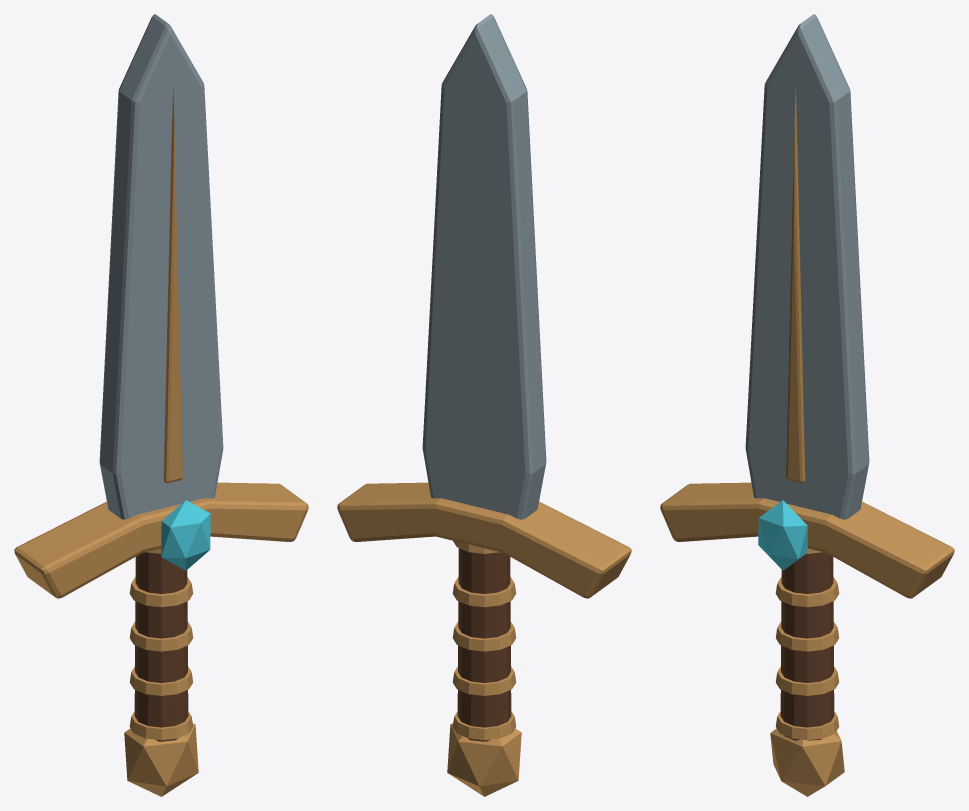
The model's file is Sword.fbx.
3 views of the same model, side by side, from view 1: azimuth 30°, elevation 25°; view 2: azimuth 150°, elevation 25°; view 3: azimuth 330°, elevation 25° (orthographic).
Visible parts, largest first — view 1: Arsenal_Sword; view 2: Arsenal_Sword; view 3: Arsenal_Sword.
Part boxes in pixels (<box>): Arsenal_Sword: <box>14,14,308,796</box>; Arsenal_Sword: <box>337,14,631,796</box>; Arsenal_Sword: <box>660,14,954,796</box>.
Bounding box in the file's own units: 63.02 × 175 × 19.48.
